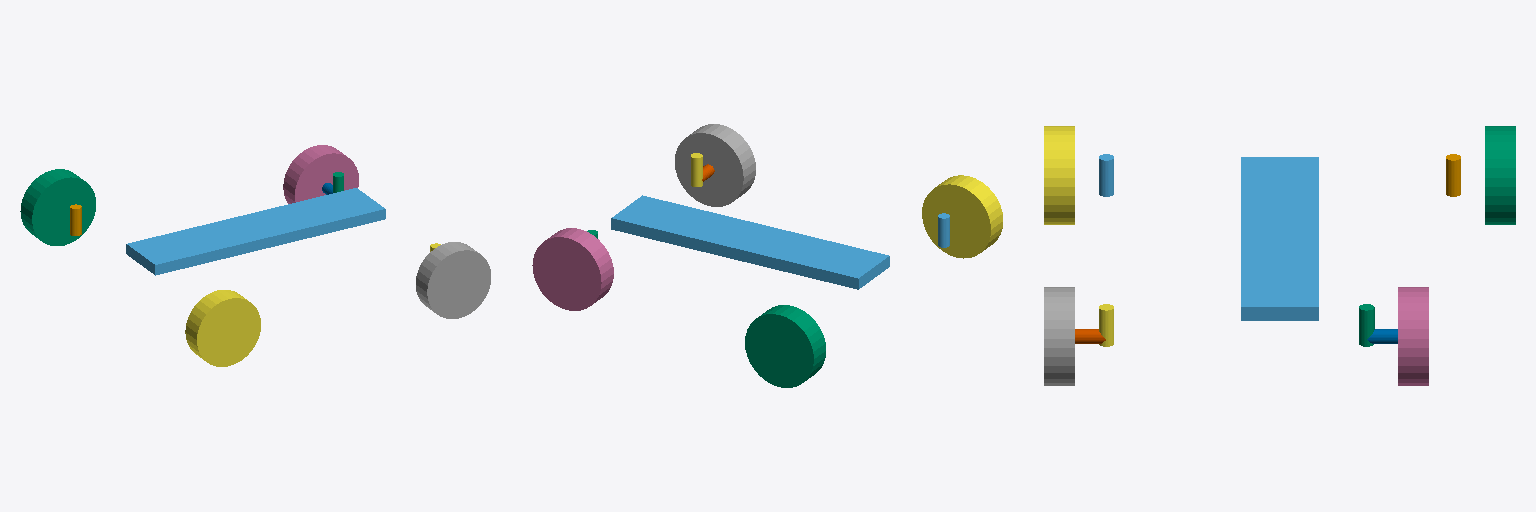
The robot description file, URDF, robot "utv_chassis":
<?xml version="1.0" ?>
<!-- =================================================================================== -->
<!-- |    This document was autogenerated by xacro from utv_chassis.urdf.xacro         | -->
<!-- |    EDITING THIS FILE BY HAND IS NOT RECOMMENDED                                 | -->
<!-- =================================================================================== -->
<robot name="utv_chassis" xmlns:xacro="http://www.ros.org/wiki/xacro">
  <!-- Used for fixing robot to Gazebo 'base_link' -->
  <!-- <link name="world"/> -->
  <!-- base_link must have geometry so that its axes can be displayed in
       rviz. -->
  <link name="base_link">
    <visual>
      <origin rpy="0 0 0" xyz="0 0 0"/>
      <geometry>
        <box size="0.01 0.01 0.01"/>
      </geometry>
      <material name="chassis_mat"/>
    </visual>
  </link>
  <gazebo reference="base_link">
    <material>Gazebo/Grey</material>
  </gazebo>
  <!-- chassis-->
  <link name="chassis">
    <visual>
      <origin rpy="0 0 0" xyz="0 0 0"/>
      <geometry>
        <box size="2.29 0.5 0.1"/>
        <!-- <mesh filename="package://prowler_vehicle_description/meshes/utv_full.dae" /> -->
      </geometry>
      <material name="tire_mat"/>
    </visual>
    <collision>
      <origin rpy="0 0 0" xyz="0 0 0"/>
      <geometry>
        <box size="2.29 0.5 0.1"/>
      </geometry>
    </collision>
    <inertial>
      <mass value="400"/>
      <origin rpy="0 0 0" xyz="0 0 0"/>
      <inertia ixx="175.136666667" ixy="0" ixz="0" iyy="8.66666666667" iyz="0" izz="183.136666667"/>
    </inertial>
  </link>
  <joint name="base_link_to_chassis" type="fixed">
    <parent link="base_link"/>
    <child link="chassis"/>
  </joint>
  <!--   <joint name="world_to_chassis_joint" type="fixed">
    <parent link="world"/>
    <child link="chassis"/>
    <origin xyz="0 0 2" />
  </joint> -->
  <!-- shock_lower_front_left -->
  <link name="shock_lower_front_left">
    <visual>
      <origin xyz="0 0 0"/>
      <geometry>
        <cylinder length="0.258" radius="0.05"/>
      </geometry>
      <material name="tire_mat"/>
    </visual>
    <collision>
      <origin xyz="0 0 0"/>
      <geometry>
        <cylinder length="0.258" radius="0.05"/>
      </geometry>
    </collision>
    <inertial>
      <origin rpy="0 0 0" xyz="0 0 0"/>
      <mass value="1"/>
      <inertia ixx="0.006572" ixy="0" ixz="0" iyy="0.006572" iyz="0" izz="0.00205"/>
    </inertial>
  </link>
  <!-- JOINT shock_lower_front_left TO shock_upper_front_left -->
  <joint name="left_front_shock" type="prismatic">
    <parent link="chassis"/>
    <child link="shock_lower_front_left"/>
    <origin xyz="1.145 0.56 -0.079"/>
    <axis xyz="0 0 1"/>
    <limit effort="20" lower="0" upper="0.208" velocity="10"/>
  </joint>
  <transmission name="front_left_shock_trans">
    <type>transmission_interface/SimpleTransmission</type>
    <joint name="left_front_shock">
      <hardwareInterface>EffortJointInterface</hardwareInterface>
    </joint>
    <actuator name="front_left_shock_act">
      <!-- This hardwareInterface element exists for compatibility
             with ROS Hydro. -->
      <hardwareInterface>EffortJointInterface</hardwareInterface>
      <mechanicalReduction>1</mechanicalReduction>
    </actuator>
  </transmission>
  <!-- shock_lower_front_right -->
  <link name="shock_lower_front_right">
    <visual>
      <origin xyz="0 0 0"/>
      <geometry>
        <cylinder length="0.258" radius="0.05"/>
      </geometry>
      <material name="tire_mat"/>
    </visual>
    <collision>
      <origin xyz="0 0 0"/>
      <geometry>
        <cylinder length="0.258" radius="0.05"/>
      </geometry>
    </collision>
    <inertial>
      <origin rpy="0 0 0" xyz="0 0 0"/>
      <mass value="1"/>
      <inertia ixx="0.006572" ixy="0" ixz="0" iyy="0.006572" iyz="0" izz="0.00205"/>
    </inertial>
  </link>
  <!-- JOINT shock_lower_front_right TO shock_upper_front_right -->
  <joint name="right_front_shock" type="prismatic">
    <parent link="chassis"/>
    <child link="shock_lower_front_right"/>
    <origin xyz="1.145 -1.12 -0.079"/>
    <axis xyz="0 0 1"/>
    <limit effort="20" lower="0" upper="0.208" velocity="10"/>
  </joint>
  <transmission name="front_right_shock_trans">
    <type>transmission_interface/SimpleTransmission</type>
    <joint name="right_front_shock">
      <hardwareInterface>EffortJointInterface</hardwareInterface>
    </joint>
    <actuator name="front_right_shock_act">
      <!-- This hardwareInterface element exists for compatibility
             with ROS Hydro. -->
      <hardwareInterface>EffortJointInterface</hardwareInterface>
      <mechanicalReduction>1</mechanicalReduction>
    </actuator>
  </transmission>
  <!-- steer_link_front_left -->
  <link name="steer_link_front_left">
    <visual>
      <origin rpy="1.57079633 0 0" xyz="0 0.1 0"/>
      <geometry>
        <cylinder length="0.2" radius="0.05"/>
      </geometry>
      <material name="tire_mat"/>
    </visual>
    <collision>
      <origin rpy="1.57079633 0 0" xyz="0 0.1 0"/>
      <geometry>
        <cylinder length="0.2" radius="0.05"/>
      </geometry>
    </collision>
    <inertial>
      <origin rpy="0 0 0" xyz="0 0 0"/>
      <mass value="1"/>
      <inertia ixx="0.00435833333333" ixy="0" ixz="0" iyy="0.00435833333333" iyz="0" izz="0.00205"/>
    </inertial>
  </link>
  <!-- JOINT steer_link_front_left TO shock_lower_front_left -->
  <joint name="left_steering_joint" type="revolute">
    <parent link="shock_lower_front_left"/>
    <child link="steer_link_front_left"/>
    <origin xyz="0 0 -0.079"/>
    <axis xyz="0 0 1"/>
    <limit effort="50" lower="-0.785398163" upper="0.785398163" velocity="4.553"/>
  </joint>
  <transmission name="front_left_steering_trans">
    <type>transmission_interface/SimpleTransmission</type>
    <joint name="left_steering_joint">
      <hardwareInterface>EffortJointInterface</hardwareInterface>
    </joint>
    <actuator name="front_left_steering_act">
      <!-- This hardwareInterface element exists for compatibility
             with ROS Hydro. -->
      <hardwareInterface>EffortJointInterface</hardwareInterface>
      <mechanicalReduction>1</mechanicalReduction>
    </actuator>
  </transmission>
  <!-- steer_link_front_right -->
  <link name="steer_link_front_right">
    <visual>
      <origin rpy="1.57079633 0 0" xyz="0 -0.1 0"/>
      <geometry>
        <cylinder length="0.2" radius="0.05"/>
      </geometry>
      <material name="tire_mat"/>
    </visual>
    <collision>
      <origin rpy="1.57079633 0 0" xyz="0 0 0"/>
      <geometry>
        <cylinder length="0.2" radius="0.05"/>
      </geometry>
    </collision>
    <inertial>
      <origin rpy="0 0 0" xyz="0 0 0"/>
      <mass value="1"/>
      <inertia ixx="0.00435833333333" ixy="0" ixz="0" iyy="0.00435833333333" iyz="0" izz="0.00205"/>
    </inertial>
  </link>
  <!-- JOINT steer_link_front_right TO shock_lower_front_right -->
  <joint name="right_steering_joint" type="revolute">
    <parent link="shock_lower_front_right"/>
    <child link="steer_link_front_right"/>
    <origin xyz="0 0 -0.079"/>
    <axis xyz="0 0 1"/>
    <limit effort="50" lower="-0.785398163" upper="0.785398163" velocity="4.553"/>
  </joint>
  <transmission name="front_right_steering_trans">
    <type>transmission_interface/SimpleTransmission</type>
    <joint name="right_steering_joint">
      <hardwareInterface>EffortJointInterface</hardwareInterface>
    </joint>
    <actuator name="front_right_steering_act">
      <!-- This hardwareInterface element exists for compatibility
             with ROS Hydro. -->
      <hardwareInterface>EffortJointInterface</hardwareInterface>
      <mechanicalReduction>1</mechanicalReduction>
    </actuator>
  </transmission>
  <!-- wheel_front_left -->
  <link name="left_front_wheel">
    <visual>
      <origin rpy="1.57079633 0 0" xyz="0 0.1 0"/>
      <geometry>
        <cylinder length="0.2" radius="0.32"/>
      </geometry>
      <material name="tire_mat"/>
    </visual>
    <collision>
      <origin rpy="1.57079633 0 0" xyz="0 0.1 0"/>
      <geometry>
        <cylinder length="0.2" radius="0.32"/>
      </geometry>
    </collision>
    <inertial>
      <origin rpy="1.57079633 0 0" xyz="0 0 0"/>
      <mass value="3"/>
      <inertia ixx="0.158875" ixy="0" ixz="0" iyy="0.158875" iyz="0" izz="0.29775"/>
    </inertial>
  </link>
  <!-- JOINT wheel_front_left TO steer_link_front_left -->
  <joint name="left_front_axle" type="continuous">
    <parent link="steer_link_front_left"/>
    <child link="left_front_wheel"/>
    <origin xyz="0 0.2 0 "/>
    <axis xyz="0 1 0"/>
    <limit effort="100" velocity="244.8696"/>
  </joint>
  <transmission name="left_front_axle_trans">
    <type>transmission_interface/SimpleTransmission</type>
    <joint name="left_front_axle">
      <hardwareInterface>EffortJointInterface</hardwareInterface>
    </joint>
    <actuator name="left_front_axle_act">
      <!-- This hardwareInterface element exists for compatibility
             with ROS Hydro. -->
      <hardwareInterface>EffortJointInterface</hardwareInterface>
      <mechanicalReduction>1</mechanicalReduction>
    </actuator>
  </transmission>
  <!-- wheel_front_right -->
  <link name="right_front_wheel">
    <visual>
      <origin rpy="1.57079633 0 0" xyz="0 -0.1 0"/>
      <geometry>
        <cylinder length="0.2" radius="0.32"/>
      </geometry>
      <material name="tire_mat"/>
    </visual>
    <collision>
      <origin rpy="1.57079633 0 0" xyz="0 -0.1 0"/>
      <geometry>
        <cylinder length="0.2" radius="0.32"/>
      </geometry>
    </collision>
    <inertial>
      <origin rpy="1.57079633 0 0" xyz="0 0 0"/>
      <mass value="3"/>
      <inertia ixx="0.158875" ixy="0" ixz="0" iyy="0.158875" iyz="0" izz="0.29775"/>
    </inertial>
  </link>
  <!-- JOINT wheel_front_right TO steer_link_front_right -->
  <joint name="right_front_axle" type="continuous">
    <parent link="steer_link_front_right"/>
    <child link="right_front_wheel"/>
    <origin xyz="0 -0.2 0 "/>
    <axis xyz="0 1 0"/>
    <limit effort="100" velocity="244.8696"/>
  </joint>
  <transmission name="right_front_axle_trans">
    <type>transmission_interface/SimpleTransmission</type>
    <joint name="right_front_axle">
      <hardwareInterface>EffortJointInterface</hardwareInterface>
    </joint>
    <actuator name="right_front_axle_act">
      <!-- This hardwareInterface element exists for compatibility
             with ROS Hydro. -->
      <hardwareInterface>EffortJointInterface</hardwareInterface>
      <mechanicalReduction>1</mechanicalReduction>
    </actuator>
  </transmission>
  <!-- shock_lower_rear_left -->
  <link name="shock_lower_rear_left">
    <visual>
      <origin xyz="0 0 0"/>
      <geometry>
        <cylinder length="0.258" radius="0.05"/>
      </geometry>
      <material name="tire_mat"/>
    </visual>
    <collision>
      <origin xyz="0 0 0"/>
      <geometry>
        <cylinder length="0.258" radius="0.05"/>
      </geometry>
    </collision>
    <inertial>
      <origin rpy="0 0 0" xyz="0 0 0"/>
      <mass value="1"/>
      <inertia ixx="0.006572" ixy="0" ixz="0" iyy="0.006572" iyz="0" izz="0.00205"/>
    </inertial>
  </link>
  <!-- JOINT shock_lower_rear_left TO shock_upper_rear_left -->
  <joint name="left_rear_shock" type="prismatic">
    <parent link="chassis"/>
    <child link="shock_lower_rear_left"/>
    <origin xyz="-1.145 1.12 -0.079"/>
    <axis xyz="0 0 1"/>
    <limit effort="20" lower="0" upper="0.208" velocity="10"/>
  </joint>
  <transmission name="rear_left_shock_trans">
    <type>transmission_interface/SimpleTransmission</type>
    <joint name="left_rear_shock">
      <hardwareInterface>EffortJointInterface</hardwareInterface>
    </joint>
    <actuator name="rear_left_shock_act">
      <!-- This hardwareInterface element exists for compatibility
             with ROS Hydro. -->
      <hardwareInterface>EffortJointInterface</hardwareInterface>
      <mechanicalReduction>1</mechanicalReduction>
    </actuator>
  </transmission>
  <!-- shock_lower_rear_right -->
  <link name="shock_lower_rear_right">
    <visual>
      <origin xyz="0 0 0"/>
      <geometry>
        <cylinder length="0.258" radius="0.05"/>
      </geometry>
      <material name="tire_mat"/>
    </visual>
    <collision>
      <origin xyz="0 0 0"/>
      <geometry>
        <cylinder length="0.258" radius="0.05"/>
      </geometry>
    </collision>
    <inertial>
      <origin rpy="0 0 0" xyz="0 0 0"/>
      <mass value="1"/>
      <inertia ixx="0.006572" ixy="0" ixz="0" iyy="0.006572" iyz="0" izz="0.00205"/>
    </inertial>
  </link>
  <!-- JOINT shock_lower_rear_right TO shock_upper_rear_right -->
  <joint name="right_rear_shock" type="prismatic">
    <parent link="chassis"/>
    <child link="shock_lower_rear_right"/>
    <origin xyz="-1.145 -1.12 -0.079"/>
    <axis xyz="0 0 1"/>
    <limit effort="20" lower="0" upper="0.208" velocity="10"/>
  </joint>
  <transmission name="rear_right_shock_trans">
    <type>transmission_interface/SimpleTransmission</type>
    <joint name="right_rear_shock">
      <hardwareInterface>EffortJointInterface</hardwareInterface>
    </joint>
    <actuator name="rear_right_shock_act">
      <!-- This hardwareInterface element exists for compatibility
             with ROS Hydro. -->
      <hardwareInterface>EffortJointInterface</hardwareInterface>
      <mechanicalReduction>1</mechanicalReduction>
    </actuator>
  </transmission>
  <!-- wheel_rear_left -->
  <link name="left_rear_wheel">
    <visual>
      <origin rpy="1.57079633 0 0" xyz="0 0.1 0"/>
      <geometry>
        <cylinder length="0.2" radius="0.32"/>
      </geometry>
      <material name="tire_mat"/>
    </visual>
    <collision>
      <origin rpy="1.57079633 0 0" xyz="0 0.1 0"/>
      <geometry>
        <cylinder length="0.2" radius="0.32"/>
      </geometry>
    </collision>
    <inertial>
      <origin rpy="1.57079633 0 0" xyz="0 0 0"/>
      <mass value="3"/>
      <inertia ixx="0.158875" ixy="0" ixz="0" iyy="0.158875" iyz="0" izz="0.29775"/>
    </inertial>
  </link>
  <!-- JOINT wheel_rear_left TO steer_link_rear_left -->
  <joint name="left_rear_axle" type="continuous">
    <parent link="shock_lower_rear_left"/>
    <child link="left_rear_wheel"/>
    <origin xyz="0 0.2 0 "/>
    <axis xyz="0 1 0"/>
    <limit effort="100" velocity="244.8696"/>
  </joint>
  <transmission name="left_rear_axle_trans">
    <type>transmission_interface/SimpleTransmission</type>
    <joint name="left_rear_axle">
      <hardwareInterface>EffortJointInterface</hardwareInterface>
    </joint>
    <actuator name="left_rear_axle_act">
      <!-- This hardwareInterface element exists for compatibility
             with ROS Hydro. -->
      <hardwareInterface>EffortJointInterface</hardwareInterface>
      <mechanicalReduction>1</mechanicalReduction>
    </actuator>
  </transmission>
  <!-- wheel_rear_right -->
  <link name="right_rear_wheel">
    <visual>
      <origin rpy="1.57079633 0 0" xyz="0 -0.1 0"/>
      <geometry>
        <cylinder length="0.2" radius="0.32"/>
      </geometry>
      <material name="tire_mat"/>
    </visual>
    <collision>
      <origin rpy="1.57079633 0 0" xyz="0 -0.1 0"/>
      <geometry>
        <cylinder length="0.2" radius="0.32"/>
      </geometry>
    </collision>
    <inertial>
      <origin rpy="1.57079633 0 0" xyz="0 0 0"/>
      <mass value="3"/>
      <inertia ixx="0.158875" ixy="0" ixz="0" iyy="0.158875" iyz="0" izz="0.29775"/>
    </inertial>
  </link>
  <!-- JOINT wheel_rear_right TO steer_link_rear_right -->
  <joint name="right_rear_axle" type="continuous">
    <parent link="shock_lower_rear_right"/>
    <child link="right_rear_wheel"/>
    <origin xyz="0 -0.2 0 "/>
    <axis xyz="0 1 0"/>
    <limit effort="100" velocity="244.8696"/>
  </joint>
  <transmission name="right_rear_axle_trans">
    <type>transmission_interface/SimpleTransmission</type>
    <joint name="right_rear_axle">
      <hardwareInterface>EffortJointInterface</hardwareInterface>
    </joint>
    <actuator name="right_rear_axle_act">
      <!-- This hardwareInterface element exists for compatibility
             with ROS Hydro. -->
      <hardwareInterface>EffortJointInterface</hardwareInterface>
      <mechanicalReduction>1</mechanicalReduction>
    </actuator>
  </transmission>
  <!-- gazebo_ros_control plugin -->
  <gazebo>
    <plugin filename="libgazebo_ros_control.so" name="gazebo_ros_control"/>
  </gazebo>
</robot>

--- What the picture shows (computed from the rendered views, not written in the file) ---
3 views of the same robot in one strip: view 1: azimuth 30°, elevation 25°; view 2: azimuth 150°, elevation 25°; view 3: azimuth 270°, elevation 25° (orthographic).
Robot: utv_chassis — 12 links, 11 joints (2 revolute, 4 continuous, 4 prismatic, 1 fixed); root link base_link; default pose: all joints at 0.
Links seen in each view (by area): view 1: chassis, right_front_wheel, right_rear_wheel, left_rear_wheel, left_front_wheel; view 2: chassis, left_rear_wheel, left_front_wheel, right_rear_wheel, right_front_wheel; view 3: chassis, left_front_wheel, right_front_wheel, left_rear_wheel, right_rear_wheel, shock_lower_rear_left, shock_lower_rear_right, shock_lower_front_left, shock_lower_front_right.
Boxes of the visible links, x1=… form: chassis: x1=126, y1=188, x2=385, y2=275; right_front_wheel: x1=416, y1=242, x2=490, y2=318; right_rear_wheel: x1=185, y1=290, x2=260, y2=366; left_rear_wheel: x1=20, y1=169, x2=95, y2=245; left_front_wheel: x1=283, y1=145, x2=358, y2=203; chassis: x1=611, y1=195, x2=889, y2=289; left_rear_wheel: x1=745, y1=305, x2=825, y2=387; left_front_wheel: x1=532, y1=228, x2=613, y2=310; right_rear_wheel: x1=922, y1=175, x2=1002, y2=258; right_front_wheel: x1=675, y1=124, x2=755, y2=206; chassis: x1=1241, y1=157, x2=1318, y2=320; left_front_wheel: x1=1398, y1=287, x2=1428, y2=385; right_front_wheel: x1=1044, y1=287, x2=1074, y2=385; left_rear_wheel: x1=1485, y1=126, x2=1515, y2=224; right_rear_wheel: x1=1044, y1=126, x2=1074, y2=224; shock_lower_rear_left: x1=1446, y1=154, x2=1460, y2=196; shock_lower_rear_right: x1=1099, y1=154, x2=1113, y2=196; shock_lower_front_left: x1=1359, y1=304, x2=1374, y2=346; shock_lower_front_right: x1=1099, y1=304, x2=1113, y2=346.
Bounding box of the posed robot: 2.93 × 3.04 × 0.719 m (x, y, z).
Geometry: primitives only (box / cylinder / sphere), no mesh files.